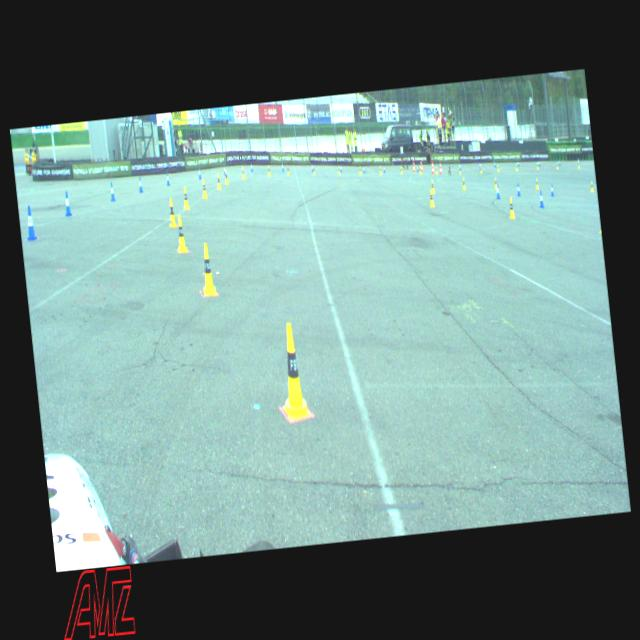blue_cone: (24, 204, 36, 240), (63, 191, 72, 216), (538, 190, 544, 208), (109, 182, 115, 200), (138, 176, 143, 192), (495, 184, 500, 198), (516, 182, 520, 196), (549, 183, 553, 196), (166, 172, 170, 184), (198, 168, 202, 179), (222, 164, 225, 175), (250, 162, 253, 172), (282, 162, 284, 171), (558, 158, 560, 166), (383, 165, 385, 173), (311, 164, 313, 172), (339, 164, 341, 172), (362, 165, 364, 172), (459, 163, 461, 170), (538, 160, 540, 167), (516, 160, 518, 167), (493, 161, 495, 168), (416, 165, 418, 172)
large_orange_cone: (411, 160, 415, 172), (431, 160, 434, 173), (439, 162, 442, 174), (420, 160, 423, 172)
yellow_cone: (274, 322, 310, 420), (198, 242, 216, 296), (175, 214, 188, 252), (167, 198, 176, 226), (506, 196, 514, 218), (182, 186, 189, 208), (201, 178, 207, 198), (428, 189, 434, 206), (216, 173, 221, 190), (430, 179, 434, 193), (224, 170, 228, 183), (241, 166, 245, 178), (461, 177, 465, 189), (590, 181, 594, 192), (378, 165, 382, 174), (267, 164, 270, 176), (493, 177, 496, 188), (514, 162, 518, 170), (418, 165, 422, 173), (535, 178, 538, 188), (434, 166, 438, 173), (399, 165, 402, 173), (358, 166, 361, 174), (479, 166, 482, 173), (496, 164, 499, 171), (312, 164, 314, 174), (286, 164, 288, 173), (338, 165, 340, 174), (458, 166, 460, 174), (536, 162, 538, 169), (556, 162, 558, 169), (577, 162, 579, 168)
